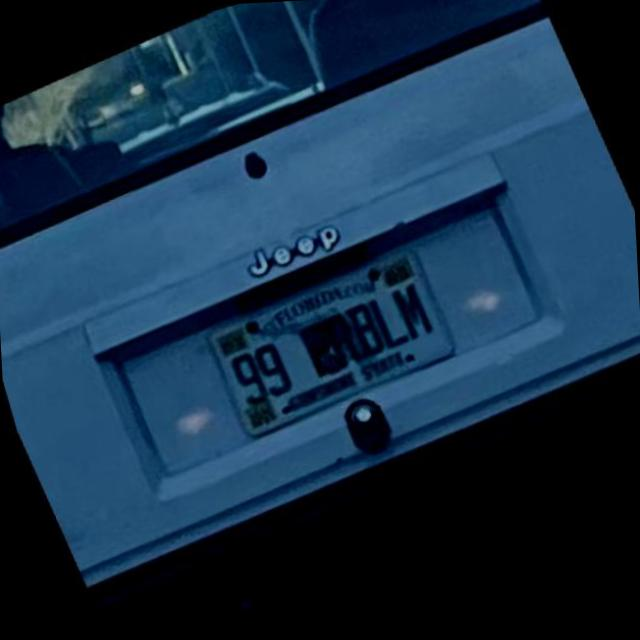LicensePlate: (199, 240, 460, 442)
